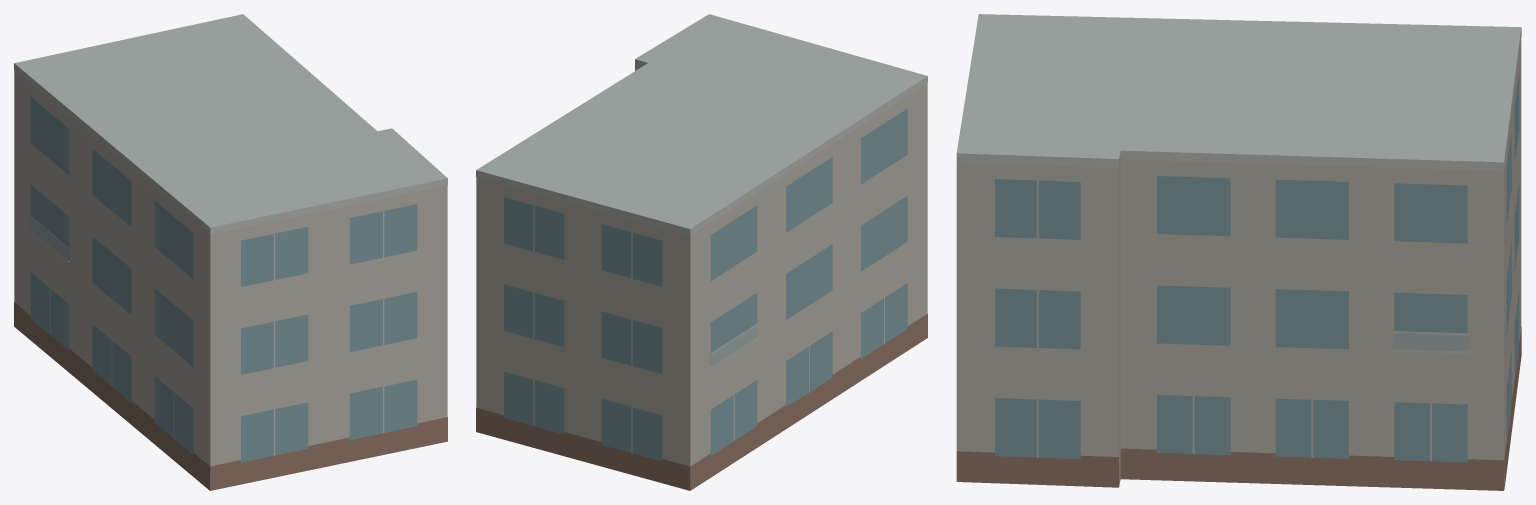
Rendered from survey-upis-32822599.glb.
3 renders of one model, left to right at view 1: azimuth 30°, elevation 25°; view 2: azimuth 150°, elevation 25°; view 3: azimuth 270°, elevation 25°, orthographic. The views are drawn at different scales.
Visible parts, largest first — view 1: survey-upis-32822599.tmp; view 2: survey-upis-32822599.tmp; view 3: survey-upis-32822599.tmp.
Part boxes in pixels (<box>): survey-upis-32822599.tmp: <box>14,14,447,490</box>; survey-upis-32822599.tmp: <box>476,14,927,490</box>; survey-upis-32822599.tmp: <box>956,14,1521,490</box>.
Size of the model in its own units: 8.87 by 9.15 by 14.27.
